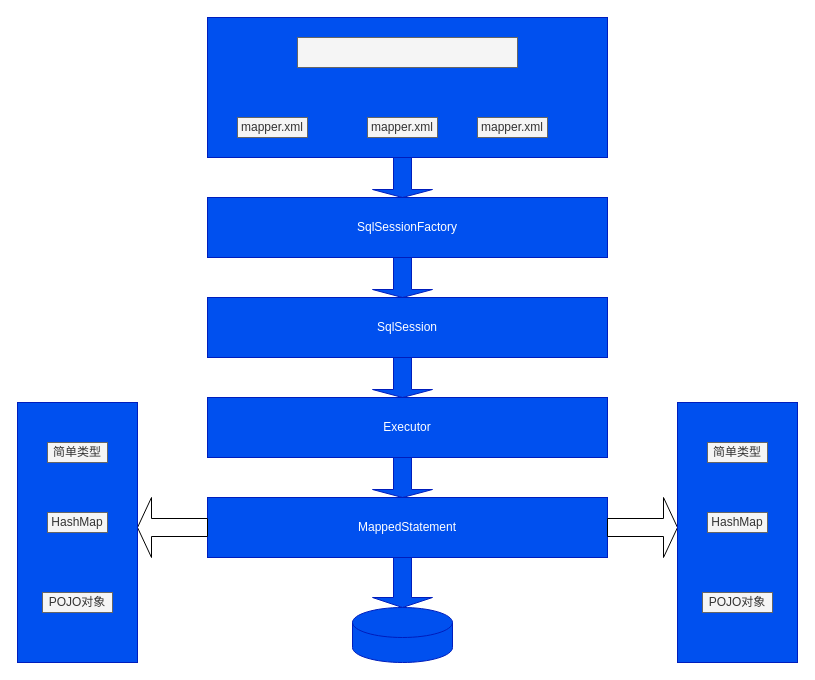
The diagram is 815 pixels wide and 680 high, and some of its shapes have lost their labels. The shapes that lost their labels are listed below. From the top down, each one's box as (x1, y1, x2, y2) in pixels, then its label:
(296, 36, 518, 68): SqlMapConfig.xml核心配置文件，数据库连接，事务管理，拦截器等
(352, 606, 452, 662): 数据库
